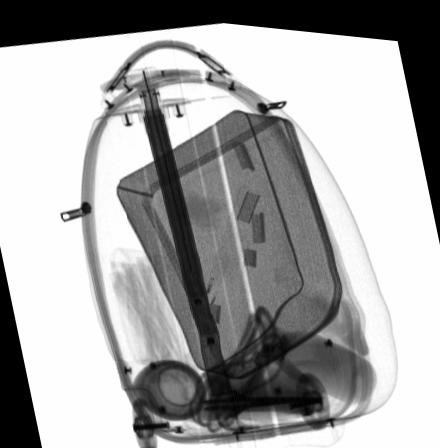Scissors: (178, 373, 326, 422)
